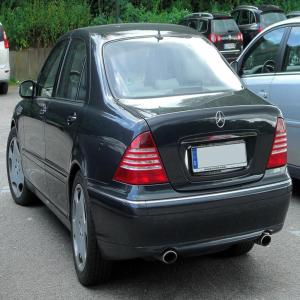Vehicle-registration-plate: (197, 136, 251, 182), (225, 43, 237, 51)
